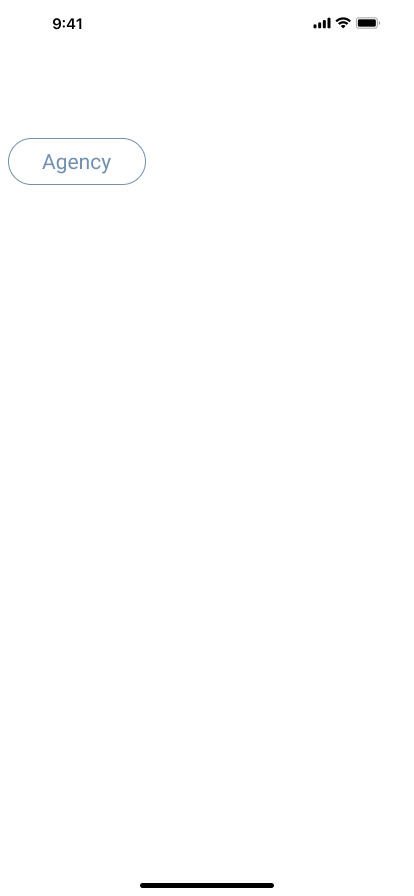Buttons: (8, 138, 154, 185)
Home Indicator: (0, 862, 414, 896)
Status Bar: (0, 0, 414, 44)
